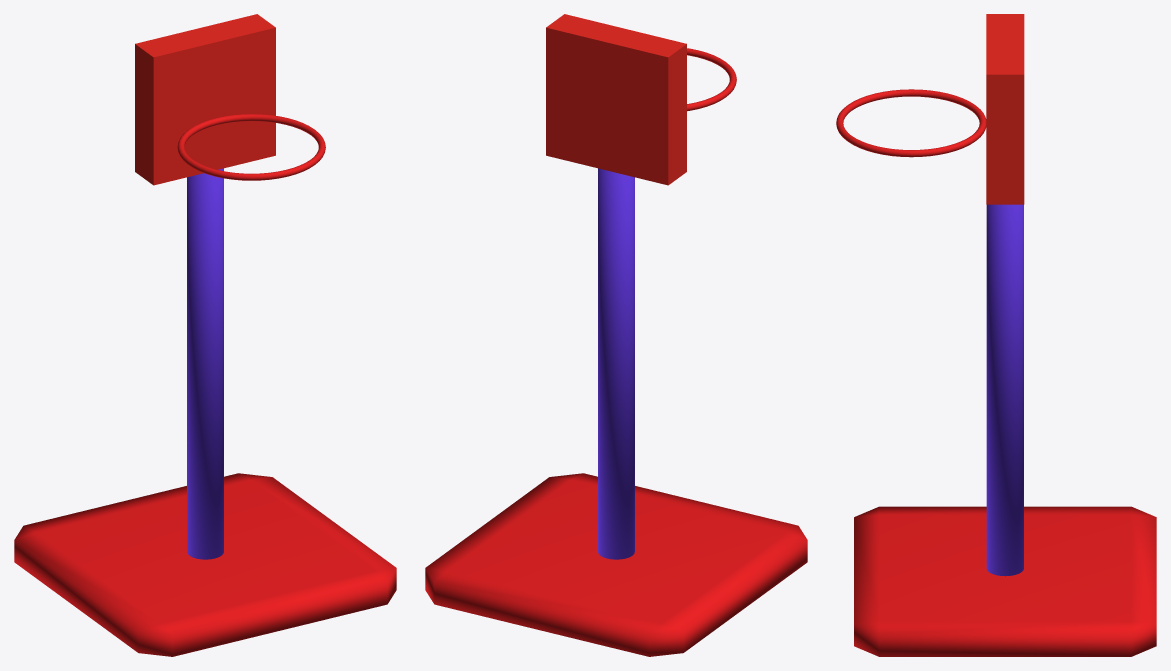
File: ring3.gltf
3 views of the same model, side by side, from view 1: azimuth 30°, elevation 25°; view 2: azimuth 150°, elevation 25°; view 3: azimuth 270°, elevation 25° (orthographic).
Visible parts, largest first — view 1: Куб; view 2: Куб; view 3: Куб.
Boxes of the visible parts, x1=… form: Куб: x1=14, y1=14, x2=396, y2=656; Куб: x1=425, y1=14, x2=807, y2=656; Куб: x1=836, y1=14, x2=1156, y2=656.
Size of the model in its own units: 4.22 by 8.47 by 4.47.
